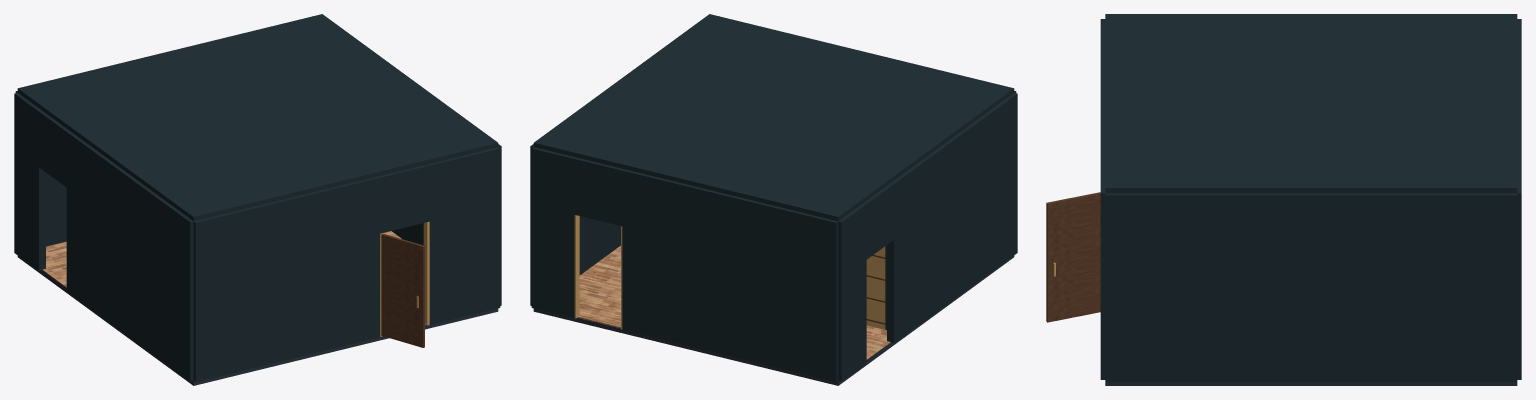
The model's file is lobby.glb.
3 renders of one model, left to right at view 1: azimuth 30°, elevation 25°; view 2: azimuth 150°, elevation 25°; view 3: azimuth 270°, elevation 25°, orthographic. The views are drawn at different scales.
Visible parts, largest first — view 1: Lobby • ceiling, Lobby • entrance wall left, Lobby • conference shared wall, Lobby • entrance wall right, Lobby • conference shared wall.001, Lobby • MAIN ENTRY leaf, Lobby • entrance header, Lobby • conference door header, Lobby • foundation, Lobby • studio partition left, Lobby • continuous oak parquet, Lobby • east wall (+1 smaller); view 2: Lobby • ceiling, Lobby • studio partition left, Lobby • conference shared wall, Lobby • studio partition right, Lobby • conference shared wall.001, Lobby • continuous oak parquet, Lobby • studio door header, Lobby • east wall, Lobby • foundation, Lobby • conference door header, Lobby • shelf brass upright.005, Lobby • STUDIO door jamb.001; view 3: Lobby • east wall, Lobby • ceiling, Lobby • MAIN ENTRY leaf, Lobby • foundation, Lobby • entrance wall right, Lobby • studio partition right, Lobby • entrance wall left, Lobby • studio partition left.
Boxes of the visible parts, x1,y1,x2,y2 form: Lobby • ceiling: (17, 14, 498, 221); Lobby • entrance wall left: (193, 176, 380, 382); Lobby • conference shared wall: (66, 131, 193, 381); Lobby • entrance wall right: (428, 147, 500, 324); Lobby • conference shared wall.001: (14, 92, 45, 270); Lobby • MAIN ENTRY leaf: (381, 233, 424, 347); Lobby • entrance header: (378, 164, 429, 233); Lobby • conference door header: (39, 111, 69, 187); Lobby • foundation: (17, 255, 498, 385); Lobby • studio partition left: (15, 91, 66, 246); Lobby • continuous oak parquet: (42, 231, 425, 324); Lobby • east wall: (392, 144, 501, 305); Lobby • ceiling: (533, 14, 1014, 221); Lobby • studio partition left: (622, 169, 838, 382); Lobby • conference shared wall: (887, 92, 1017, 343); Lobby • studio partition right: (531, 147, 576, 318); Lobby • conference shared wall.001: (838, 203, 866, 381); Lobby • continuous oak parquet: (577, 245, 890, 359); Lobby • studio door header: (574, 157, 623, 226); Lobby • east wall: (530, 144, 620, 305); Lobby • foundation: (533, 255, 1014, 385); Lobby • conference door header: (863, 183, 893, 259); Lobby • shelf brass upright.005: (866, 246, 886, 330); Lobby • STUDIO door jamb.001: (574, 215, 579, 318); Lobby • east wall: (1105, 193, 1517, 381); Lobby • ceiling: (1105, 14, 1517, 193); Lobby • MAIN ENTRY leaf: (1046, 192, 1100, 322); Lobby • foundation: (1105, 382, 1517, 385); Lobby • entrance wall right: (1100, 153, 1105, 379); Lobby • studio partition right: (1517, 168, 1521, 379); Lobby • entrance wall left: (1100, 19, 1105, 124); Lobby • studio partition left: (1517, 19, 1521, 141).
Bounding box in the file's own units: 8.18 × 4.25 × 9.24.
Materials: 13 (3 with a texture image).
